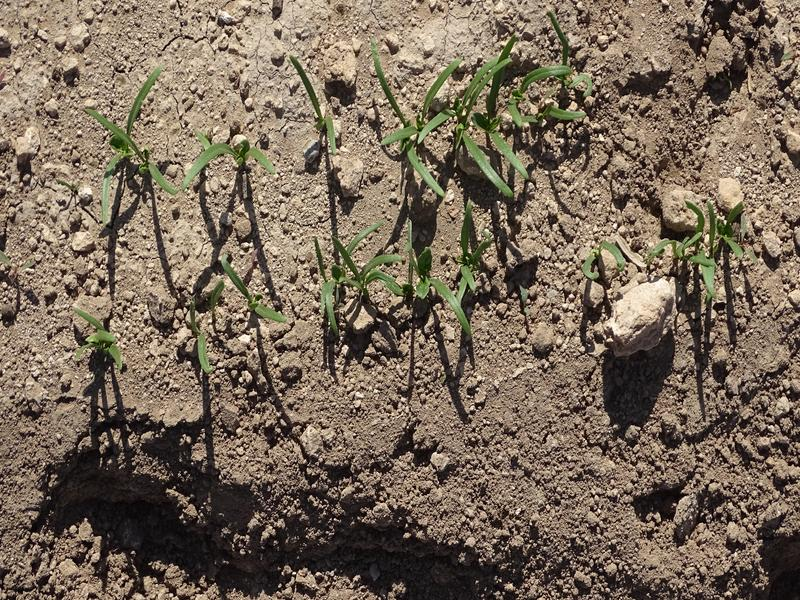Espinaca: (355, 44, 591, 203), (314, 219, 496, 341), (91, 73, 174, 201), (676, 211, 763, 295), (289, 54, 340, 163), (219, 257, 284, 327), (185, 132, 270, 185), (71, 308, 133, 375), (578, 235, 624, 285), (192, 330, 214, 376)
